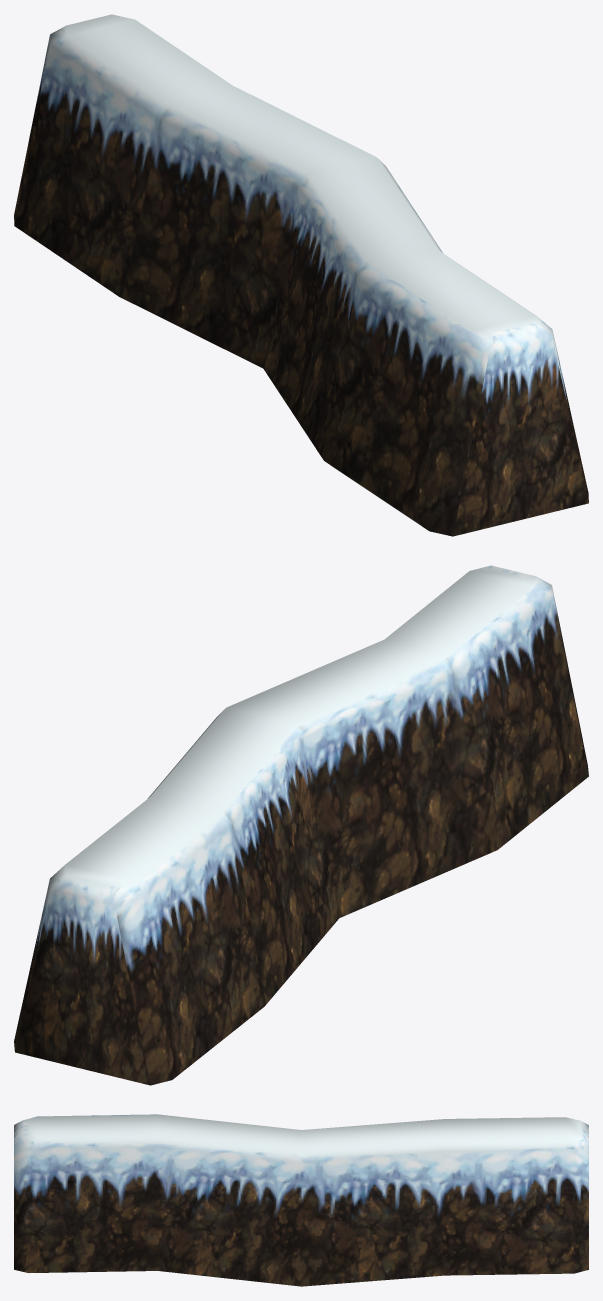
File: mc_env_snow mountain_mountain_01_v02.FBX
The picture shows the model from 3 angles, top to bottom: view 1: azimuth 30°, elevation 25°; view 2: azimuth 150°, elevation 25°; view 3: azimuth 270°, elevation 25°; orthographic projection. The views are drawn at different scales.
Visible parts, largest first — view 1: Box011; view 2: Box011; view 3: Box011.
Boxes of the visible parts, x1=… form: Box011: x1=14, y1=14, x2=588, y2=536; Box011: x1=14, y1=565, x2=588, y2=1085; Box011: x1=14, y1=1114, x2=588, y2=1286.
Size of the model in its own units: 582 by 491 by 2128.
